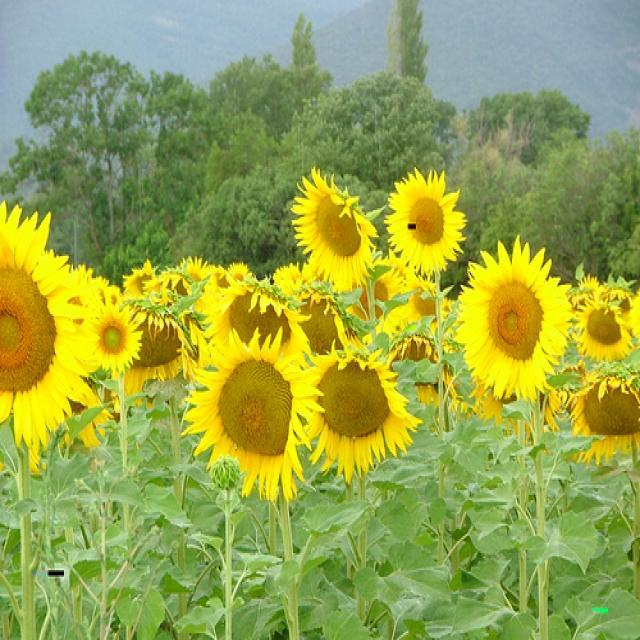sunflower: (181, 328, 325, 500), (454, 235, 573, 399), (1, 200, 74, 448), (302, 338, 423, 484), (291, 167, 379, 290), (105, 304, 210, 395), (268, 263, 366, 360), (385, 168, 467, 274), (202, 282, 312, 360), (569, 377, 640, 464), (474, 381, 560, 441), (82, 299, 143, 373), (56, 374, 115, 450), (574, 297, 632, 364), (391, 336, 447, 405), (345, 256, 406, 319), (346, 256, 404, 322), (404, 272, 452, 330), (63, 264, 96, 324), (124, 259, 161, 296), (606, 289, 634, 328), (182, 256, 214, 280), (160, 272, 190, 296), (228, 261, 252, 286), (576, 274, 602, 296), (92, 276, 108, 305), (214, 264, 231, 288), (106, 284, 122, 306)
